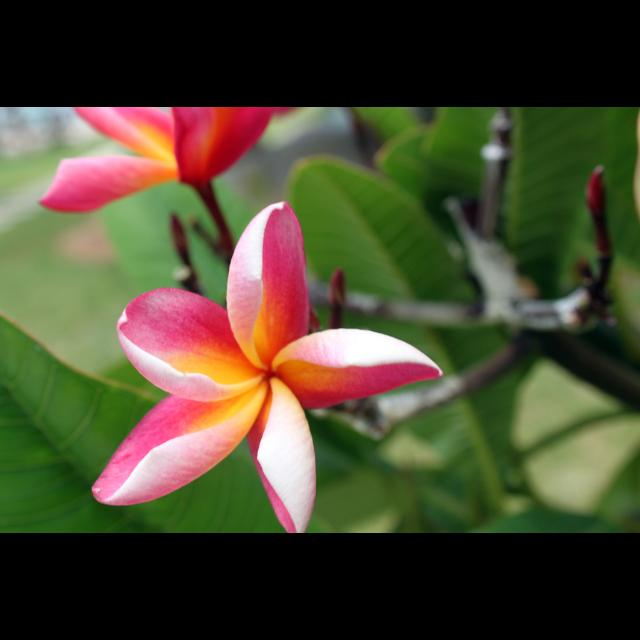Flower: (80, 188, 416, 508), (35, 108, 288, 216)
